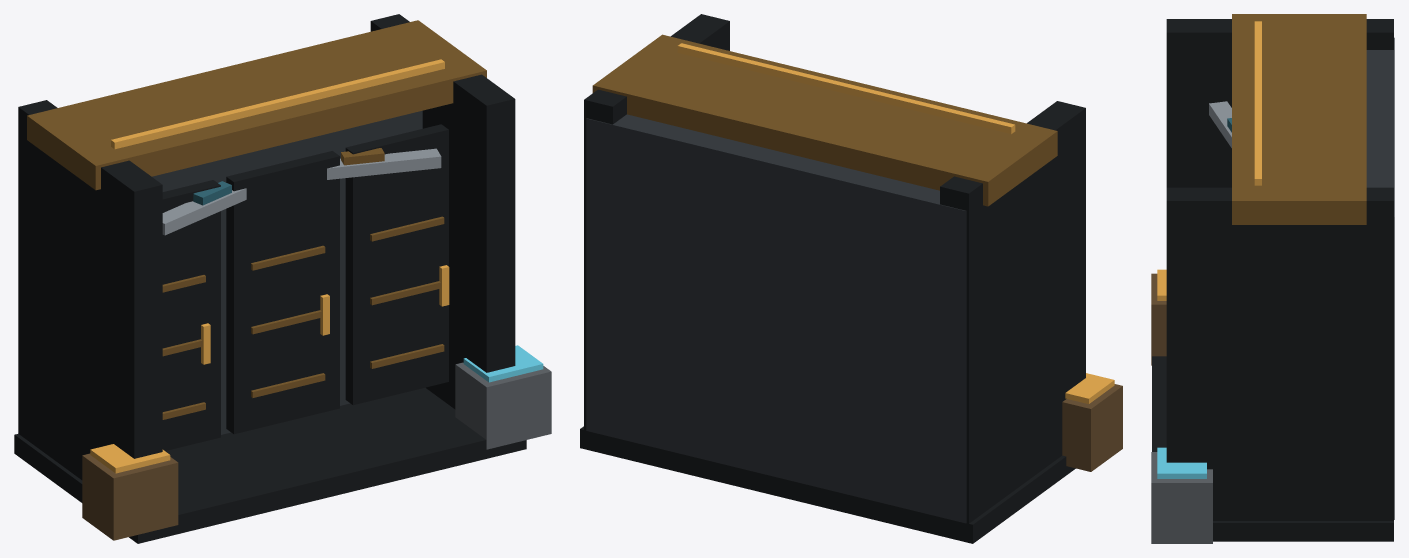
The model's file is armory.obj.
The picture shows the model from 3 angles, left to right: view 1: azimuth 30°, elevation 25°; view 2: azimuth 150°, elevation 25°; view 3: azimuth 270°, elevation 25°; orthographic projection. The views are drawn at different scales.
Visible parts, largest first — view 1: device_armory; view 2: device_armory; view 3: device_armory.
Boxes of the visible parts, box(x1,y1,x2,y2) form: device_armory: box(14, 14, 551, 543); device_armory: box(580, 14, 1122, 543); device_armory: box(1151, 14, 1394, 543).
Size of the model in its own units: 3.38 by 2.62 by 1.66.
